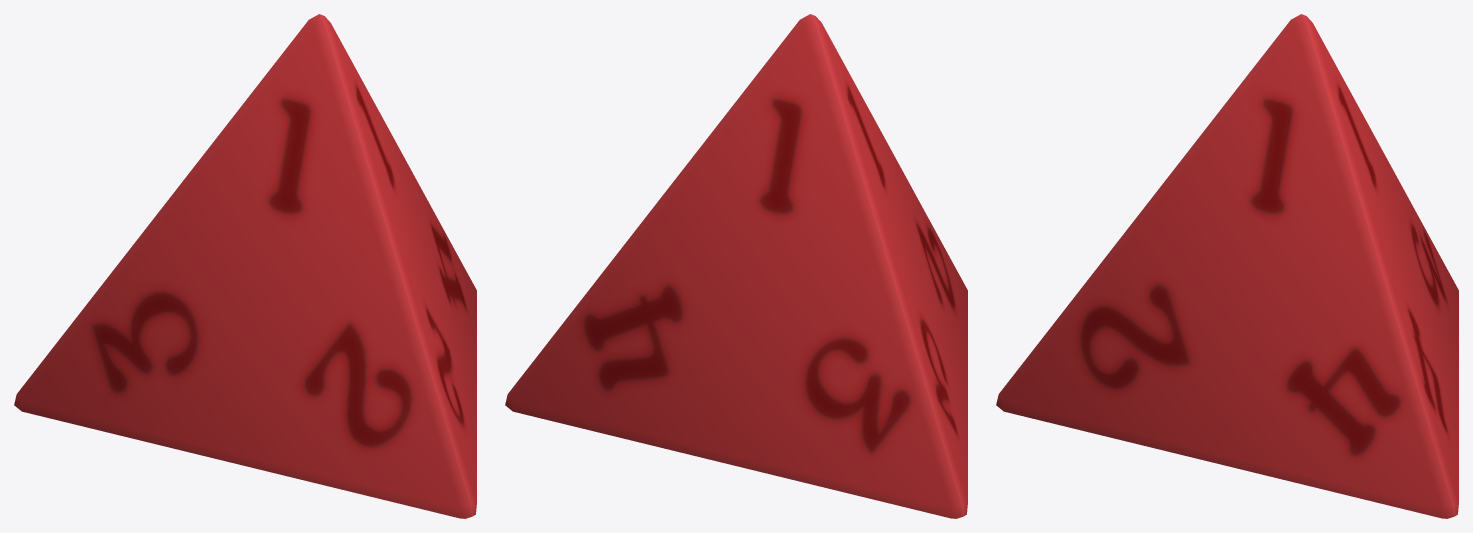
The model's file is D4_red.gltf.
3 views of the same model, side by side, from view 1: azimuth 30°, elevation 25°; view 2: azimuth 150°, elevation 25°; view 3: azimuth 270°, elevation 25° (orthographic).
Visible parts, largest first — view 1: D4_red; view 2: D4_red; view 3: D4_red.
Boxes of the visible parts, x1,y1,x2,y2 form: D4_red: (14,14,476,518); D4_red: (505,14,967,518); D4_red: (996,14,1458,518).
Size of the model in its own units: 0.9591 by 0.7969 by 0.8396.
1 material, 1 textured.
